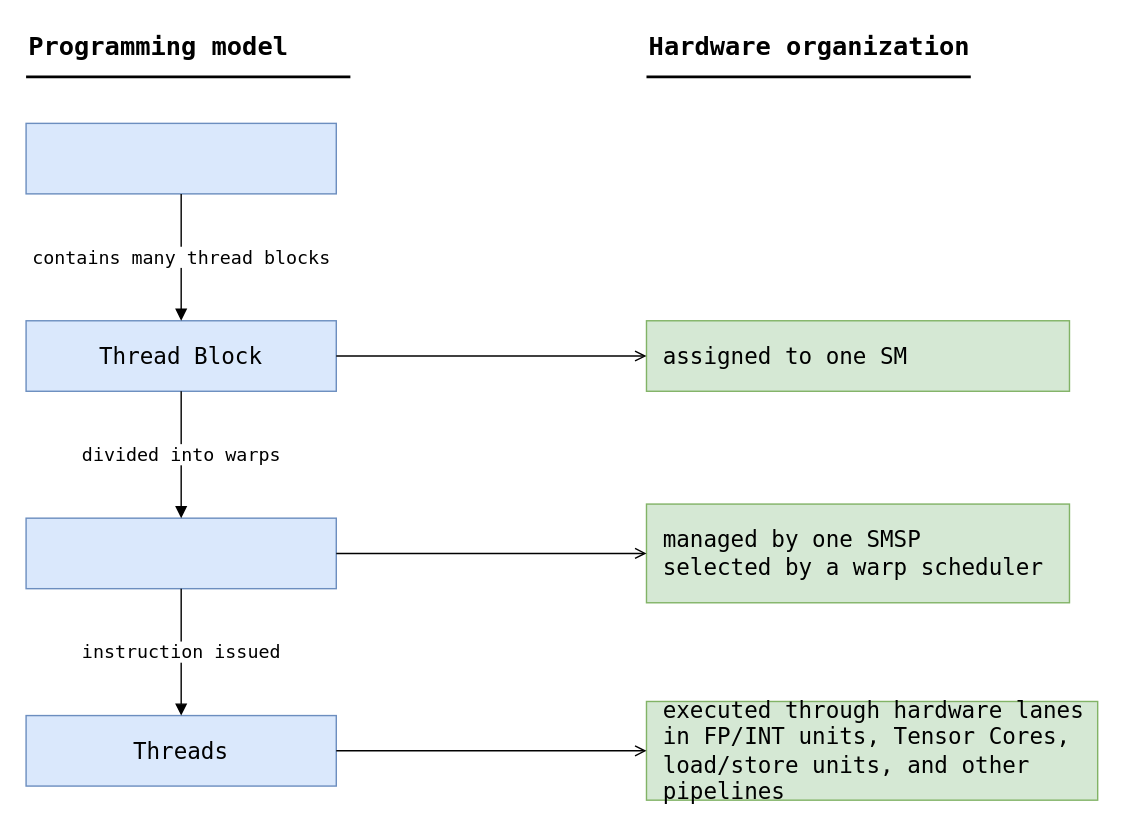
Image size: 1122x829. Some labels were removed from this diagram. Here are the shapes that lost their labels. From the top down, the box of each, then its label:
(25, 122, 336, 194): Kernel / Grid
(25, 517, 336, 589): Warp
